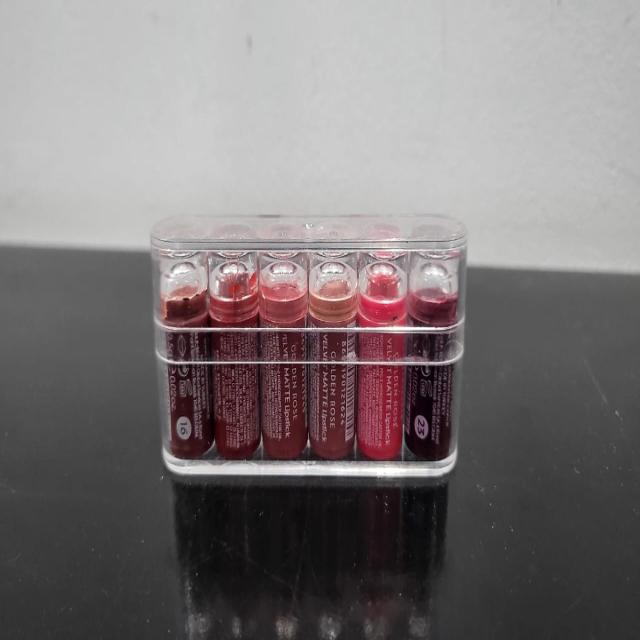lip shade: (150, 221, 471, 476)
